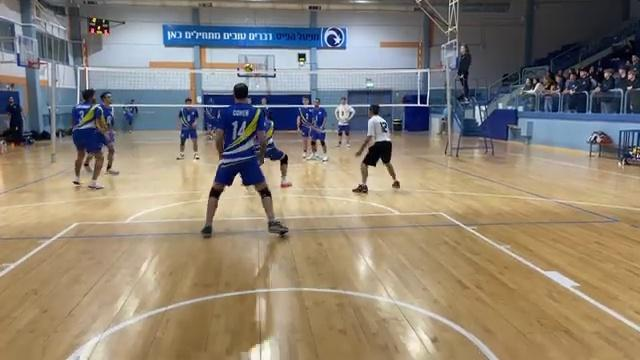ball: (242, 62, 256, 73)
